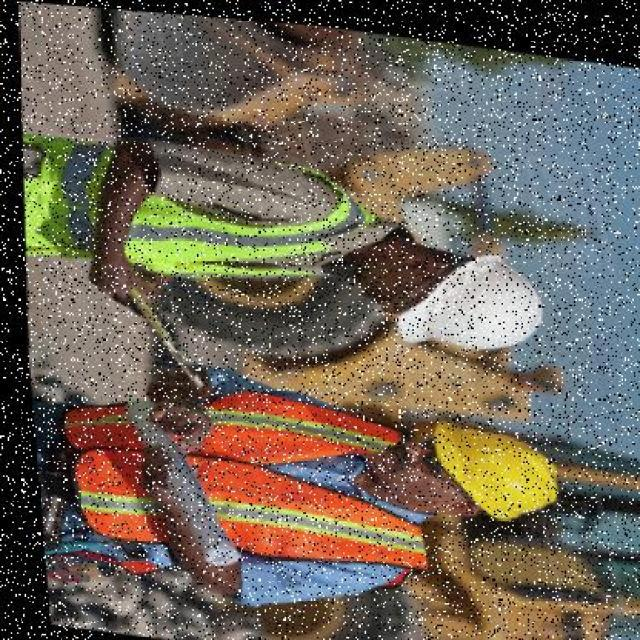helmet: (379, 229, 550, 361), (412, 409, 552, 523)
vest: (9, 120, 373, 324), (88, 377, 421, 577)
